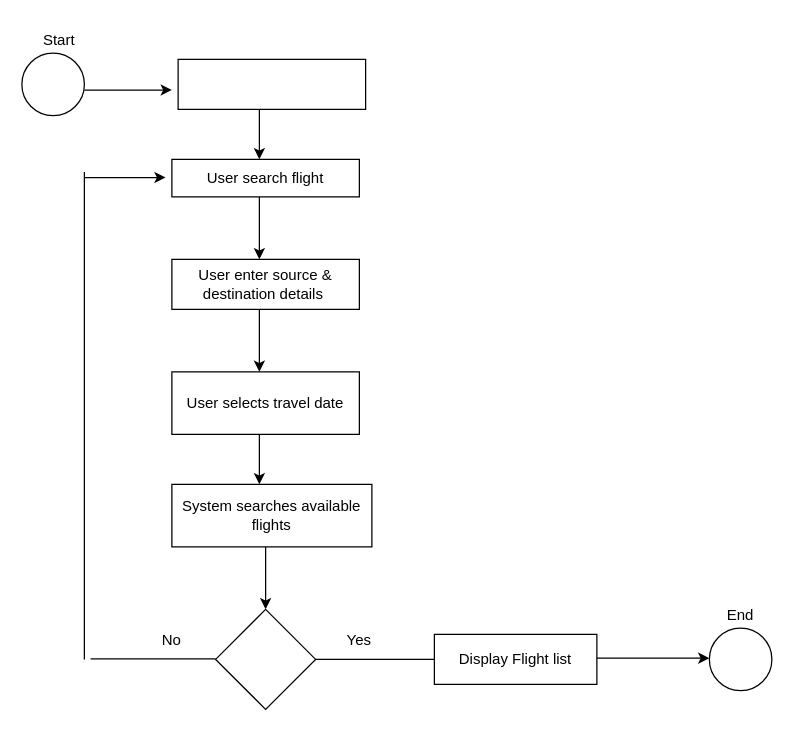
Image size: 800x731. Some labels were removed from this diagram. Each missing label, with the box of its shape:
Flights available: (214, 608, 316, 709)
User enter details: (177, 58, 366, 109)
